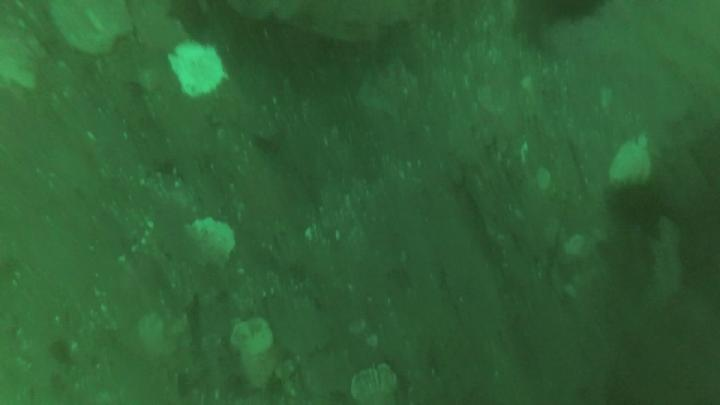echinus: (604, 180, 664, 243)
scallop: (47, 4, 133, 60), (165, 37, 226, 103)
